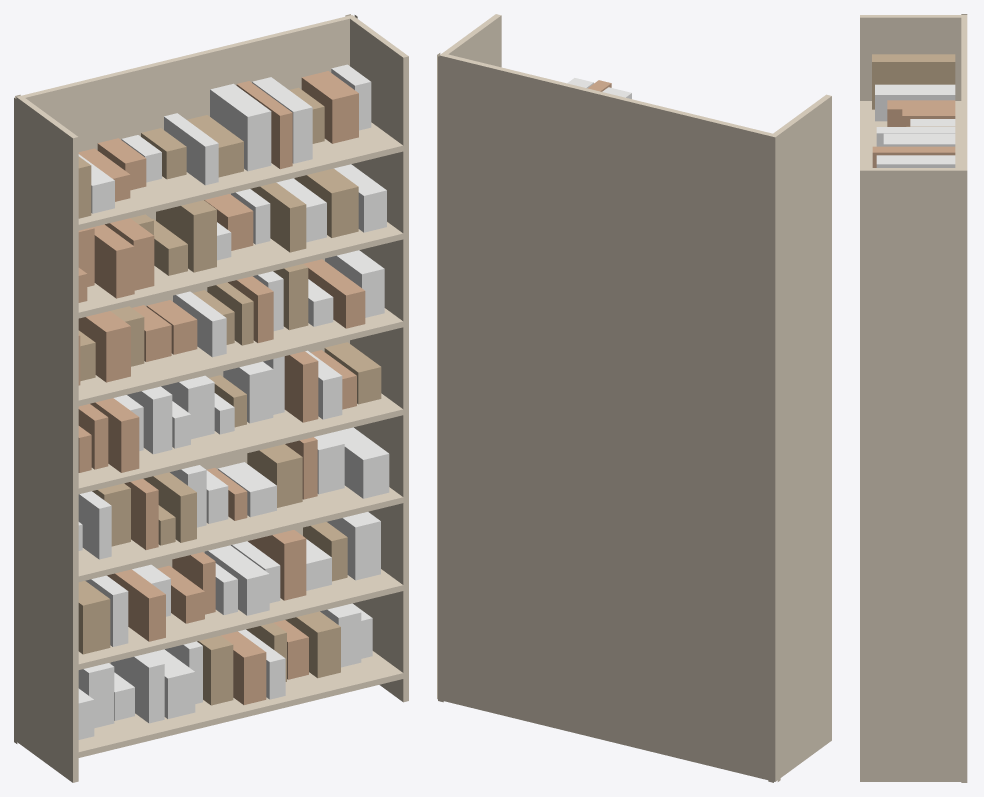
Rendered from Medicine_Shelf.fbx.
The picture shows the model from 3 angles, left to right: view 1: azimuth 30°, elevation 25°; view 2: azimuth 150°, elevation 25°; view 3: azimuth 270°, elevation 25°; orthographic projection. The views are drawn at different scales.
Visible parts, largest first — view 1: Medicine_Shelf; view 2: Medicine_Shelf; view 3: Medicine_Shelf.
Boxes of the visible parts, bbox=[...] form: Medicine_Shelf: bbox=[14, 14, 408, 782]; Medicine_Shelf: bbox=[437, 14, 831, 782]; Medicine_Shelf: bbox=[860, 14, 967, 782].
Size of the model in its own units: 1.22 by 2.2 by 0.358.
